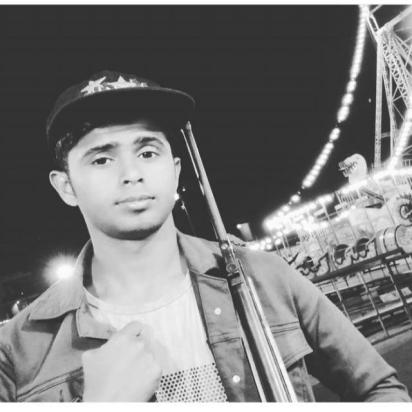Gun: (180, 120, 299, 402)
